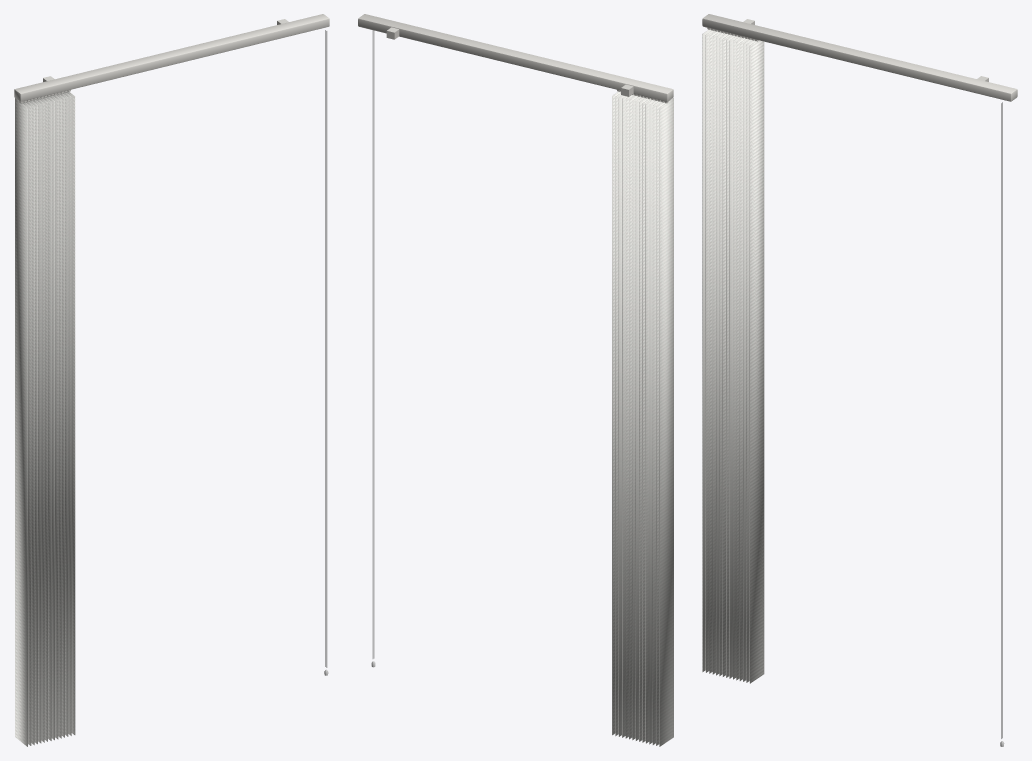
File: cortina_vertical_120_c0.glb
3 renders of one model, left to right at view 1: azimuth 30°, elevation 25°; view 2: azimuth 150°, elevation 25°; view 3: azimuth 330°, elevation 25°, orthographic.
Parts seen in each view (by area): view 1: cortina_vertical_120_c0; view 2: cortina_vertical_120_c0; view 3: cortina_vertical_120_c0.
Boxes of the visible parts, left/top/right/bottom form: cortina_vertical_120_c0: left=14, top=14, right=329, bottom=746; cortina_vertical_120_c0: left=358, top=14, right=673, bottom=746; cortina_vertical_120_c0: left=702, top=14, right=1017, bottom=746.
Size of the model in its own units: 1.19 by 2.4 by 0.0996.
3 materials, 1 textured.
